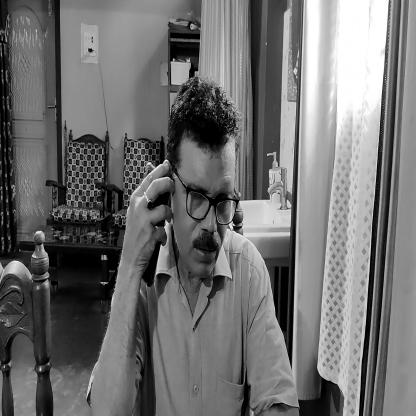Distracted: (166, 62, 237, 296)
